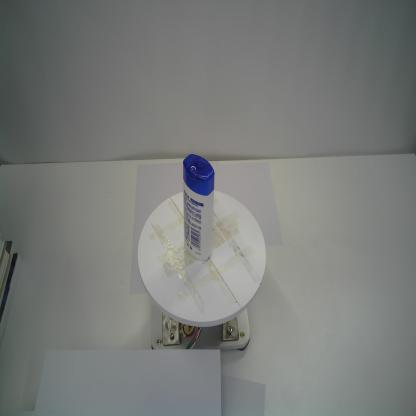Personal Hygiene: (182, 153, 215, 262)
